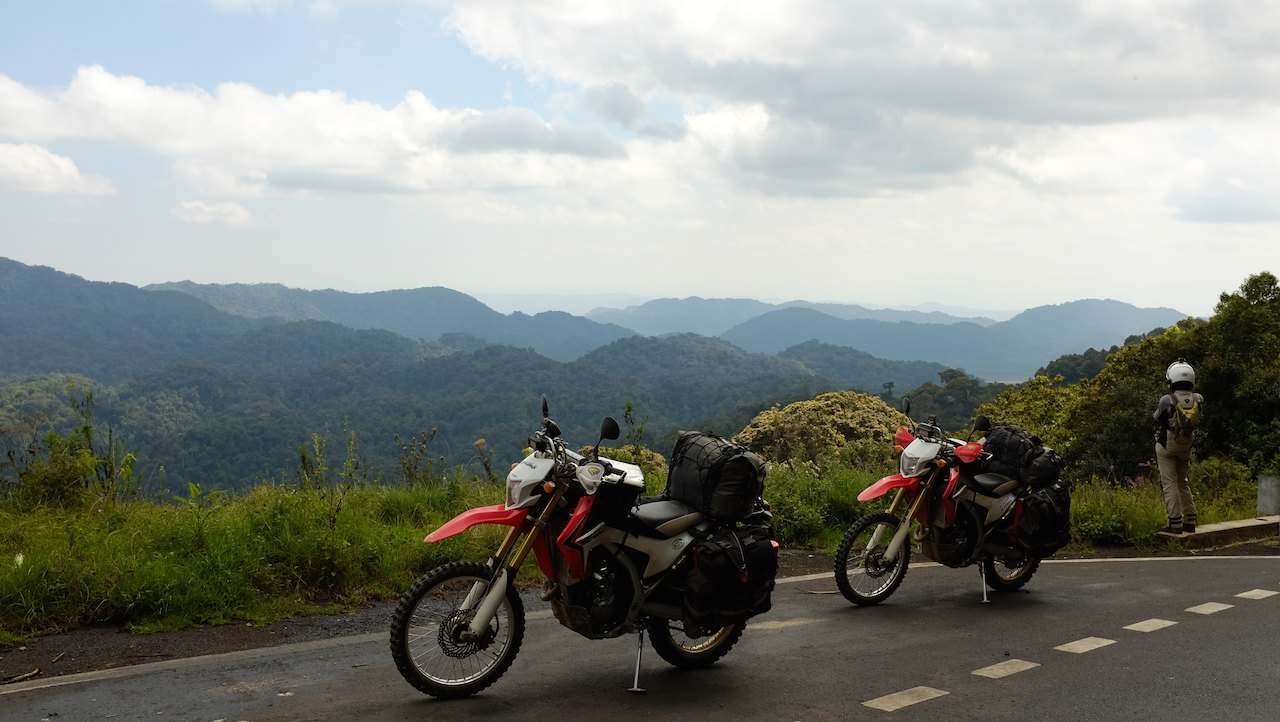motorbike: (371, 413, 782, 705), (831, 398, 1093, 626)
